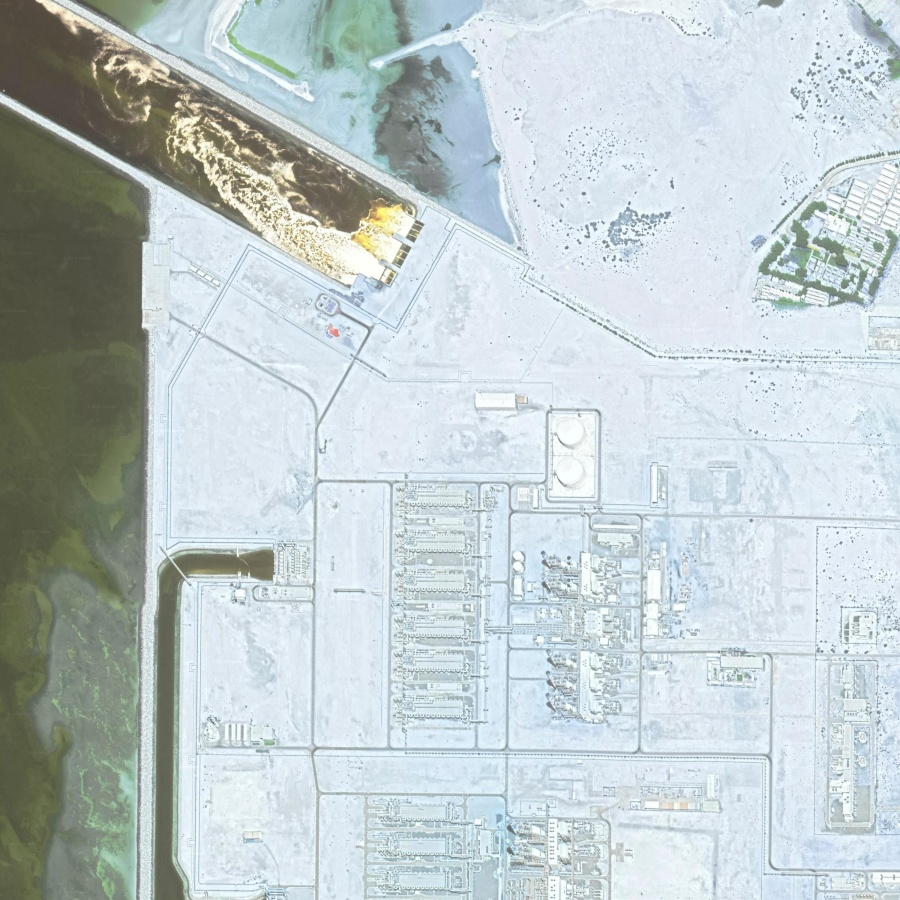PowerPlant: (388, 385, 720, 729)
